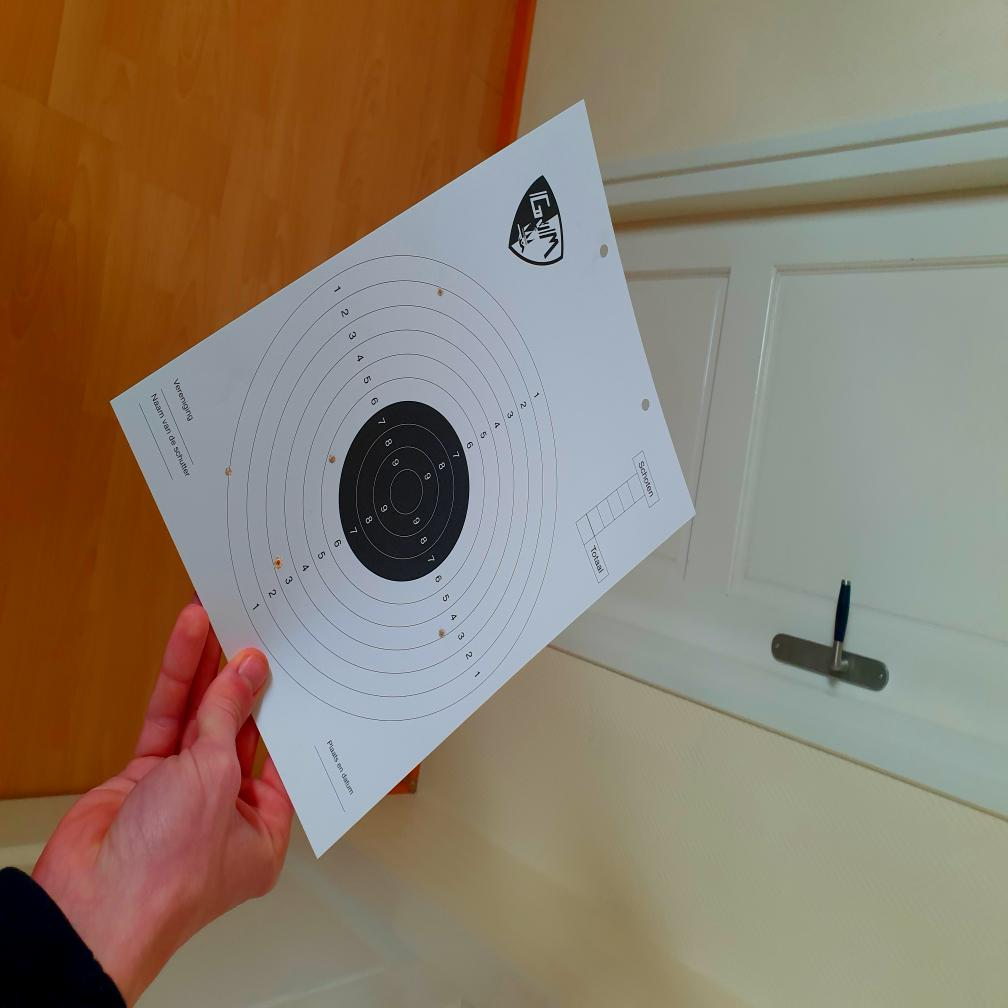1: (224, 466, 232, 478)
2: (436, 287, 445, 298)
3: (271, 554, 284, 574)
4: (437, 627, 448, 640)
6: (328, 454, 336, 464)
Target: (223, 256, 560, 722)
black_contour: (338, 400, 470, 583)
